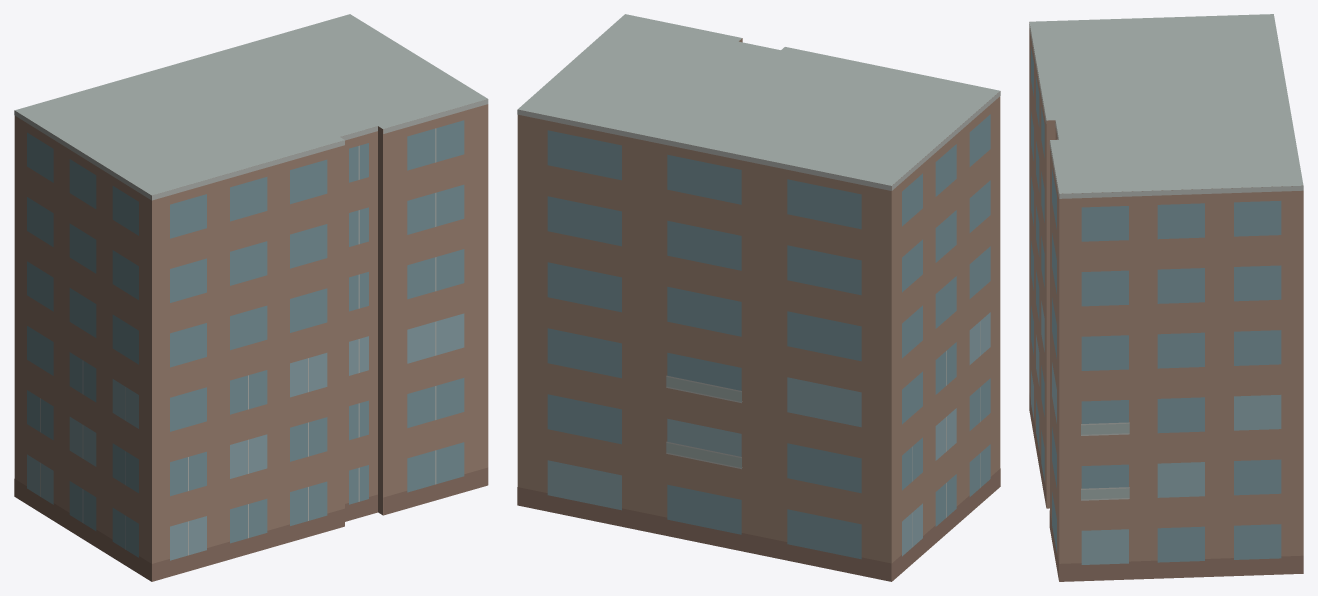
The model's file is survey-upis-32975284.glb.
The picture shows the model from 3 angles, left to right: view 1: azimuth 30°, elevation 25°; view 2: azimuth 150°, elevation 25°; view 3: azimuth 270°, elevation 25°; orthographic projection. The views are drawn at different scales.
Visible parts, largest first — view 1: survey-upis-32975284.tmp; view 2: survey-upis-32975284.tmp; view 3: survey-upis-32975284.tmp.
Part boxes in pixels (bbox=[...]): survey-upis-32975284.tmp: bbox=[14, 14, 488, 581]; survey-upis-32975284.tmp: bbox=[517, 14, 1000, 581]; survey-upis-32975284.tmp: bbox=[1029, 14, 1303, 581].
Size of the model in its own units: 18.7 by 18.8 by 12.05.
